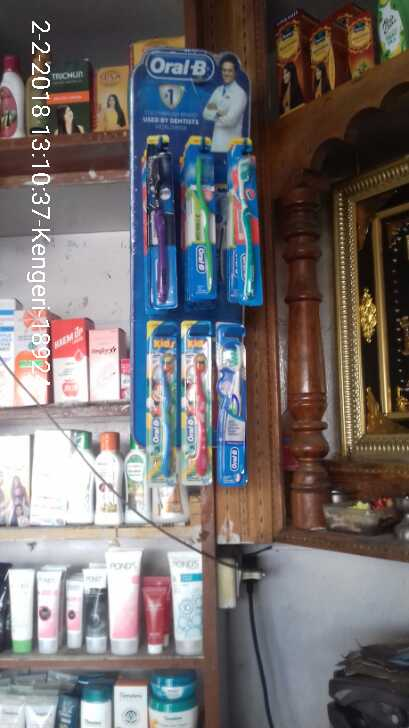oralb: (180, 135, 219, 299), (223, 134, 259, 305), (142, 132, 176, 306), (179, 321, 212, 482), (147, 320, 177, 484), (216, 320, 245, 485)
